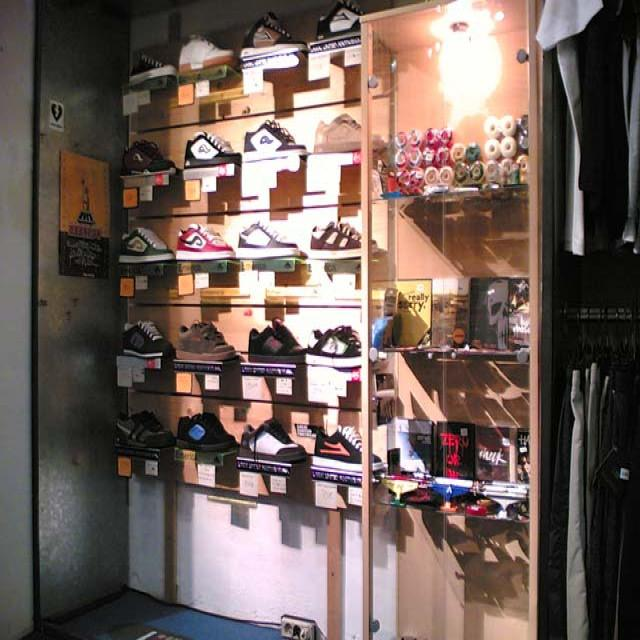T-shirts crop: (533, 0, 639, 255)
book case: (430, 276, 470, 347), (432, 420, 473, 480)
floor -X: (25, 587, 312, 637)
showcase occluded: (359, 0, 542, 637)
sneaker: (239, 9, 306, 60), (312, 425, 380, 475), (236, 415, 305, 464), (242, 119, 306, 163), (313, 109, 379, 149), (308, 219, 375, 257), (235, 221, 299, 259), (176, 320, 234, 361), (247, 321, 306, 361), (175, 409, 233, 449), (115, 408, 173, 447), (179, 31, 234, 71), (175, 223, 232, 259), (183, 132, 243, 165), (119, 319, 172, 356), (119, 227, 173, 261), (119, 141, 174, 173)
socket: (280, 611, 316, 637)
stand clothes: (119, 0, 366, 637)
trousers occluded: (537, 347, 638, 636)
wall clock: (128, 0, 639, 637)
